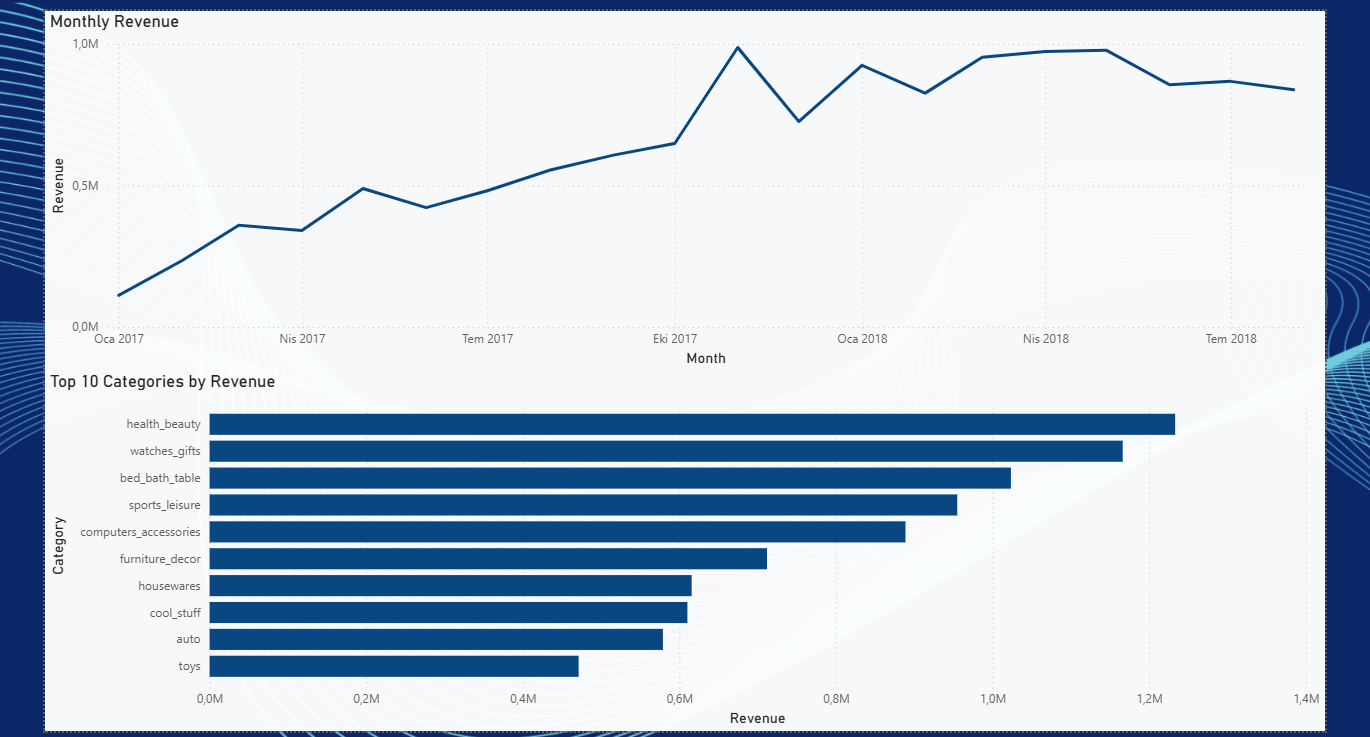

The dashboard page shown, as its layout file describes it:
{"tool":"powerbi","page":{"name":"Delivered Sales","canvas":[1280,720],"ordinal":1},"visuals":[{"type":"lineChart","title":"Monthly Revenue","fields":{"Y":["Sum(vw_teslim_edilen_satislar.price)"],"Category":["vw_teslim_edilen_satislar.Month"]},"box":[0,0,1280,360],"z":0},{"type":"clusteredBarChart","title":"Top 10 Categories by Revenue","fields":{"Category":["vw_teslim_edilen_satislar.kategori"],"Y":["Sum(vw_teslim_edilen_satislar.price)"]},"box":[0,360,1280,360],"z":1000}]}

Visuals, with their boxes on the page's 1280x720 design canvas (x1, y1, x2, y2). These are canvas units, not pixel positions in the 1370x737 screenshot, which may show the page scaled, cropped or inside an application window:
"Monthly Revenue" lineChart: {"x1": 0, "y1": 0, "x2": 1280, "y2": 360}
"Top 10 Categories by Revenue" clusteredBarChart: {"x1": 0, "y1": 360, "x2": 1280, "y2": 720}
